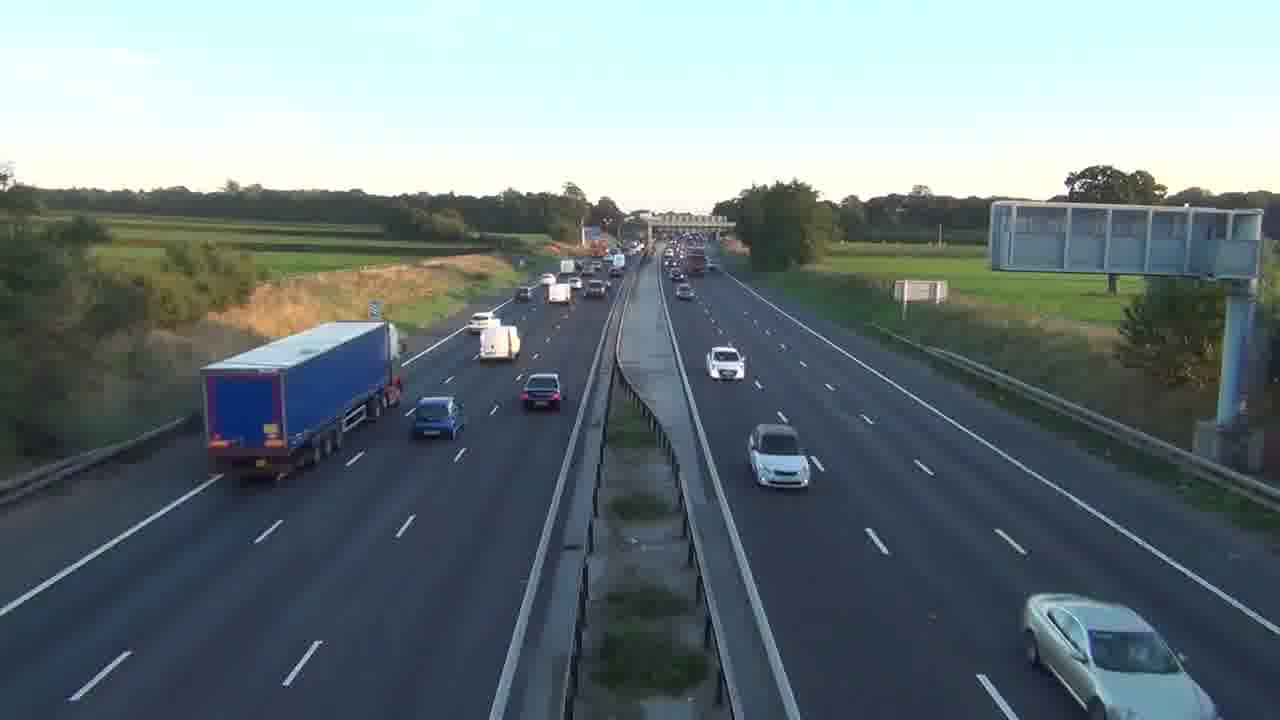car: (1022, 591, 1218, 719), (747, 423, 813, 489), (411, 395, 466, 440), (519, 372, 563, 411), (705, 345, 747, 382)
truck: (201, 318, 403, 483), (479, 324, 521, 360)
